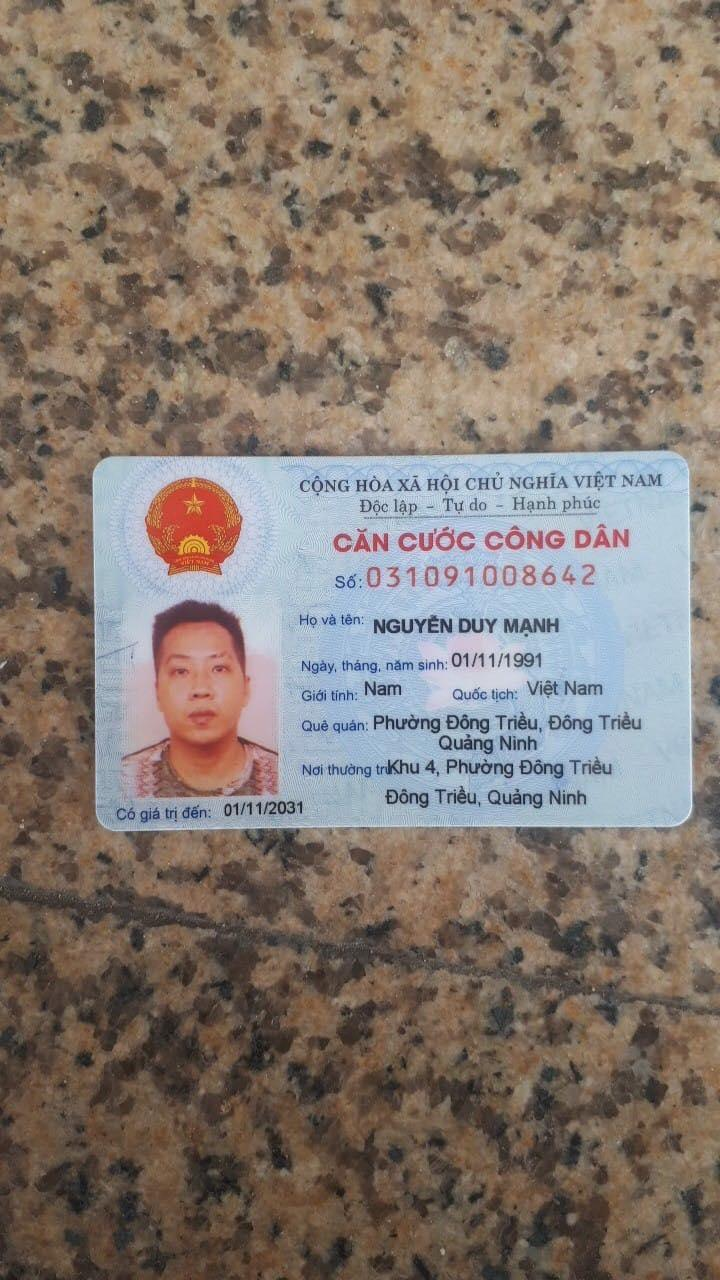bottom_left: (90, 809, 127, 840)
bottom_right: (672, 798, 701, 835)
top_left: (84, 454, 116, 484)
top_right: (668, 447, 696, 478)
